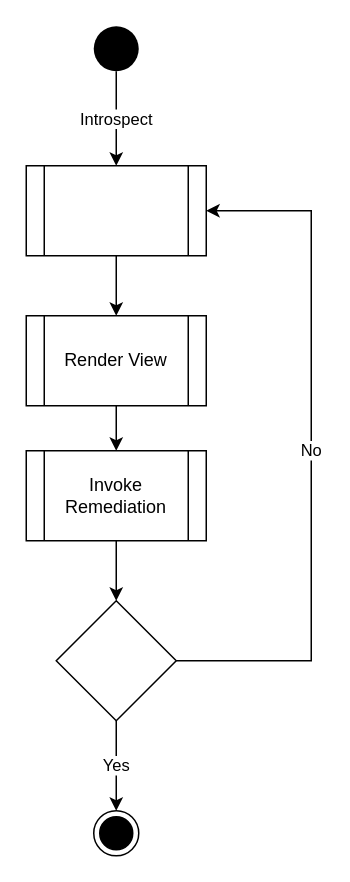
This 350x882 diagram has some shape labels left out. The centre of each missing label's shape, as x and y in pixels:
Parse Response as ViewModel: point (115, 210)
Success: point (115, 660)
